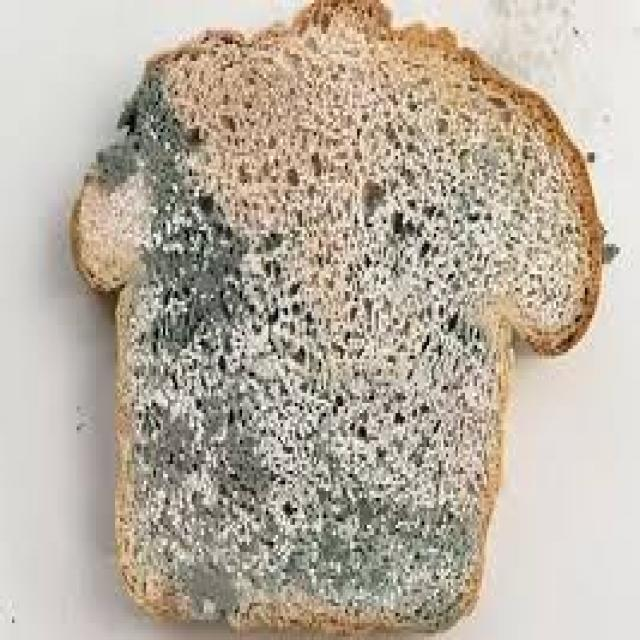organic waste: (65, 0, 616, 637)
